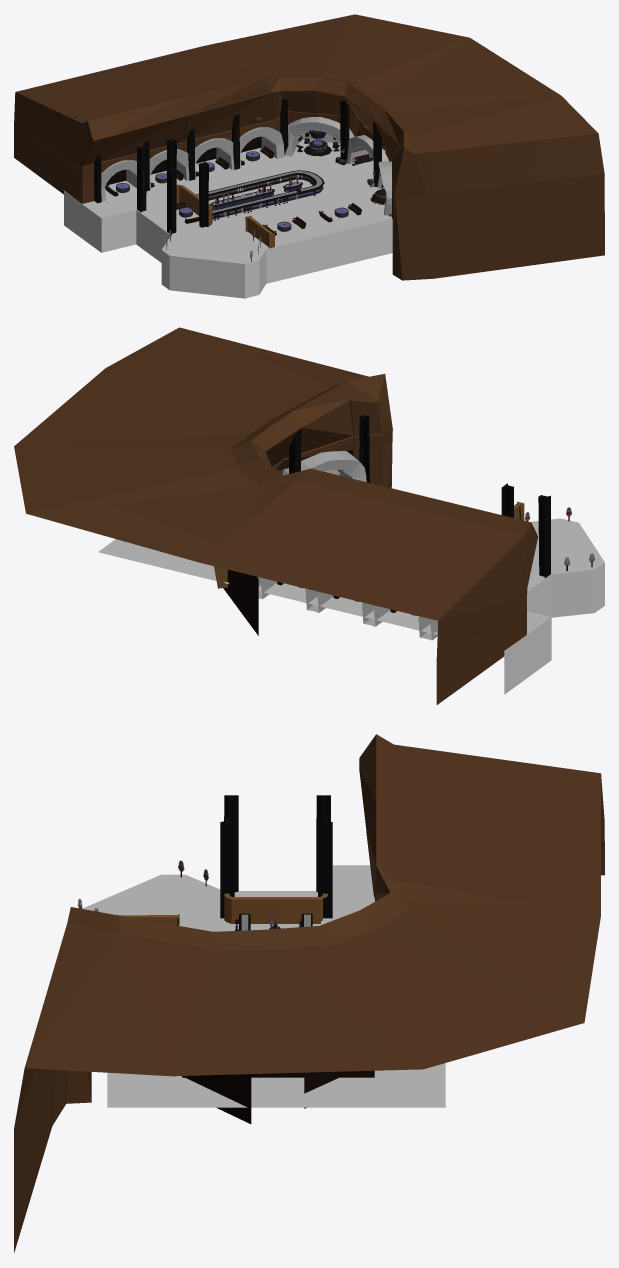
The model's file is HUB_BETA.fbx.
3 renders of one model, top to bottom at view 1: azimuth 30°, elevation 25°; view 2: azimuth 150°, elevation 25°; view 3: azimuth 270°, elevation 25°, orthographic. The views are drawn at different scales.
Parts seen in each view (by area): view 1: Canteen_Wall, polySurface1, polySurface2, Columns, Domes, bar, Sofas, Tables, Bar_mid; view 2: Canteen_Wall, polySurface1, polySurface2, Columns, Domes; view 3: Canteen_Wall, polySurface1, Columns.
Boxes of the visible parts, left/top/right/bottom form: Canteen_Wall: left=14, top=14, right=604, bottom=280; polySurface1: left=64, top=140, right=391, bottom=263; polySurface2: left=64, top=191, right=392, bottom=298; Columns: left=94, top=97, right=392, bottom=234; Domes: left=101, top=116, right=392, bottom=215; bar: left=196, top=170, right=324, bottom=219; Sofas: left=105, top=146, right=372, bottom=235; Tables: left=116, top=151, right=348, bottom=231; Bar_mid: left=209, top=182, right=302, bottom=209; Canteen_Wall: left=14, top=327, right=538, bottom=704; polySurface1: left=98, top=518, right=604, bottom=651; polySurface2: left=504, top=562, right=604, bottom=694; Columns: left=223, top=415, right=550, bottom=635; Domes: left=257, top=451, right=437, bottom=640; Canteen_Wall: left=14, top=734, right=604, bottom=1252; polySurface1: left=82, top=865, right=445, bottom=1107; Columns: left=182, top=795, right=374, bottom=1123.
Bounding box in the file's own units: 75.28 × 25.57 × 61.7.
